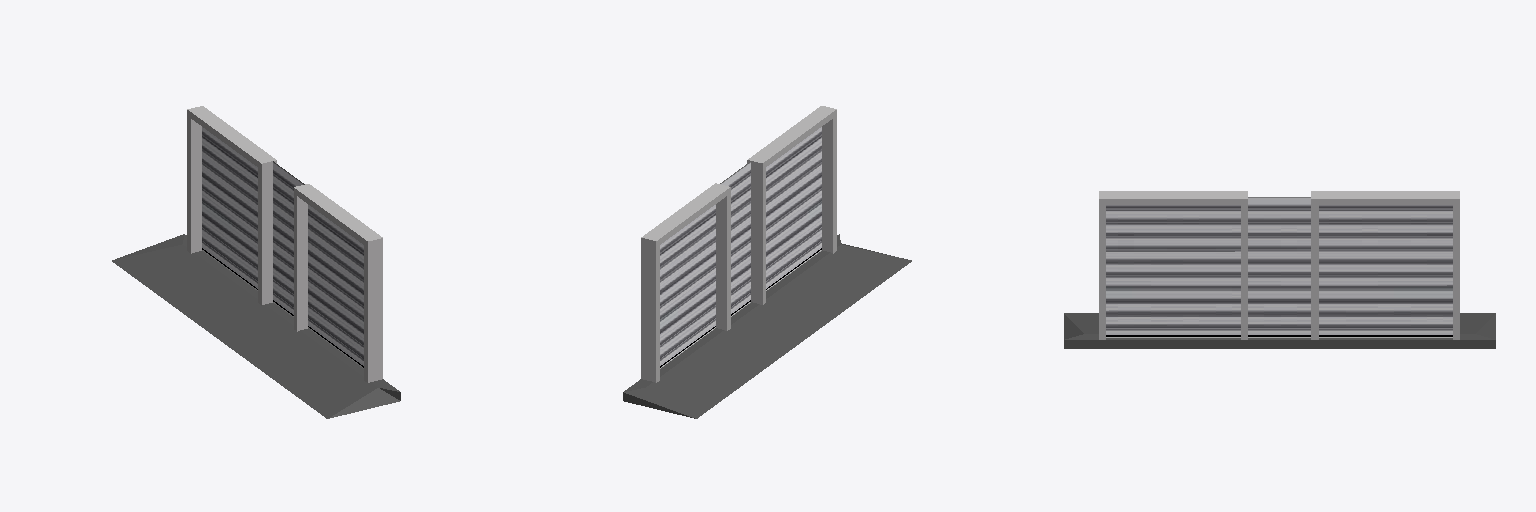
3 renders of one model, left to right at view 1: azimuth 30°, elevation 25°; view 2: azimuth 150°, elevation 25°; view 3: azimuth 270°, elevation 25°, orthographic.
Parts seen in each view (by area): view 1: Rectangle161, Rectangle160, Line003, Line037; view 2: Rectangle161, Rectangle160, Line037, Line003; view 3: Rectangle161, Rectangle160, Line037, Line003.
Boxes of the visible parts, <box> form: Rectangle161: <box>202,127,363,368</box>; Rectangle160: <box>112,234,400,418</box>; Line003: <box>294,184,382,382</box>; Line037: <box>187,106,276,305</box>; Rectangle161: <box>660,127,821,368</box>; Rectangle160: <box>623,234,911,418</box>; Line037: <box>641,183,730,382</box>; Line003: <box>747,106,836,304</box>; Rectangle161: <box>1106,197,1452,337</box>; Rectangle160: <box>1064,313,1495,348</box>; Line037: <box>1311,191,1459,339</box>; Line003: <box>1099,191,1247,339</box>.
Bounding box in the file's own units: 12 × 23.5 × 61.12.
Materials: 3 (1 with a texture image).